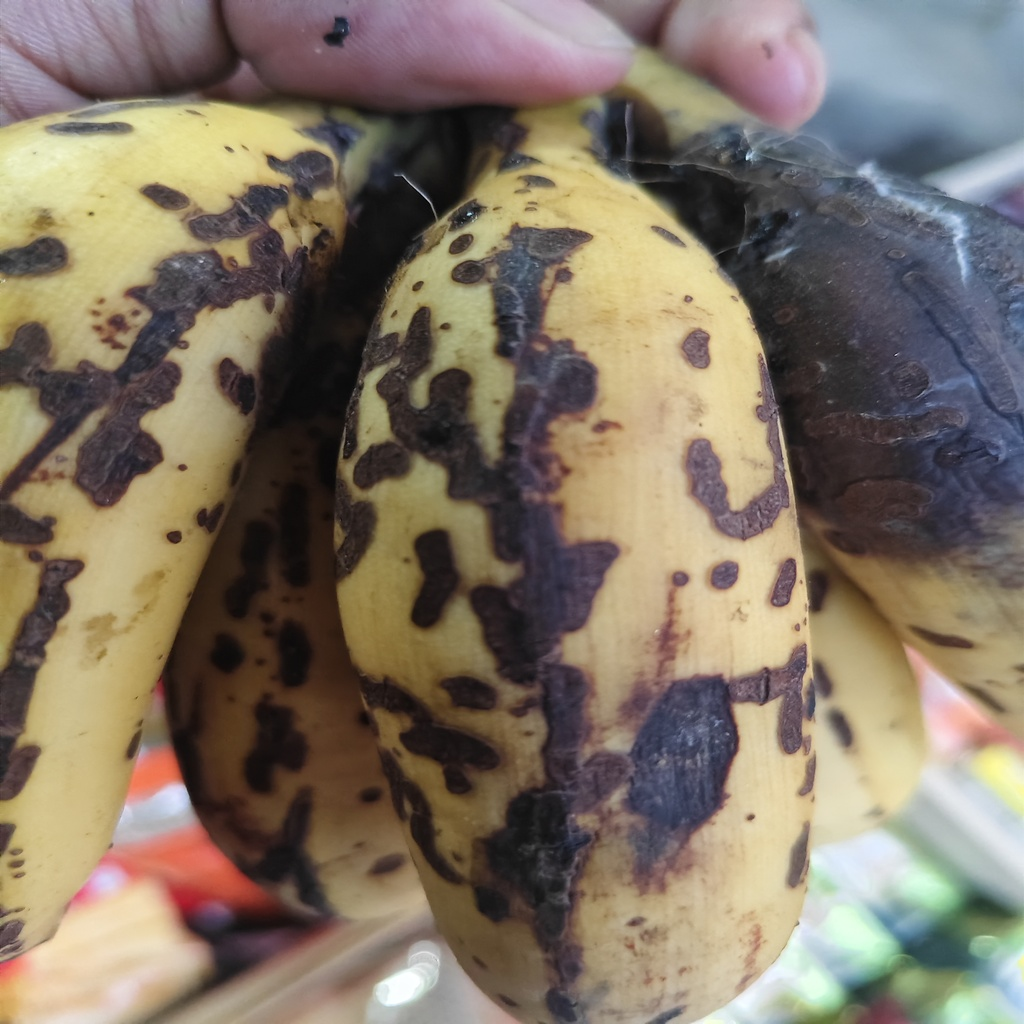unhealthy: (325, 152, 818, 1022), (1, 94, 319, 953)
